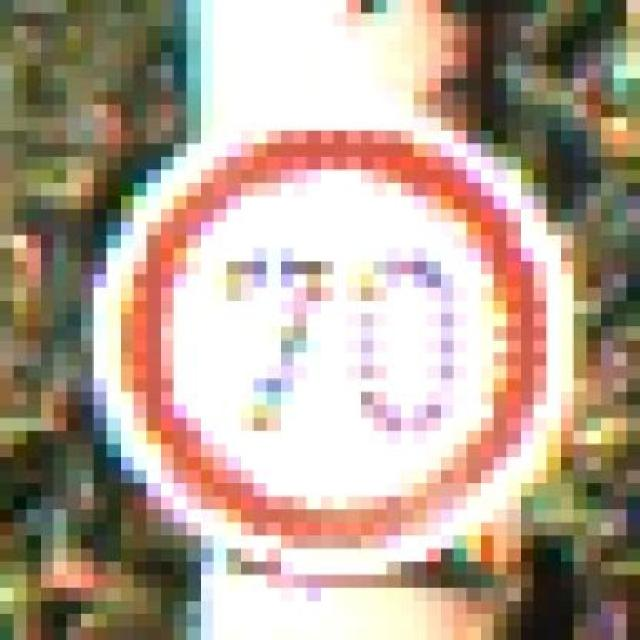forb_speed_over_70: (99, 120, 556, 562)
